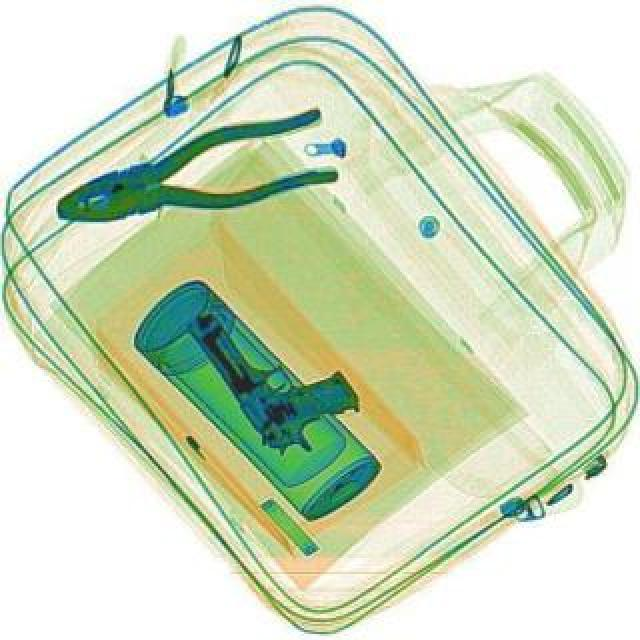gun: (182, 266, 368, 470)
wrench: (42, 100, 338, 252)
